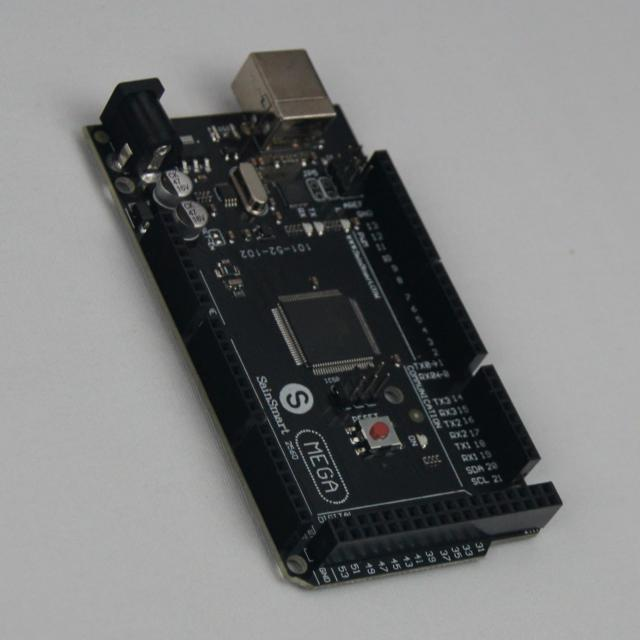Arduino Mega 2560 -Black-: (87, 51, 561, 587)
